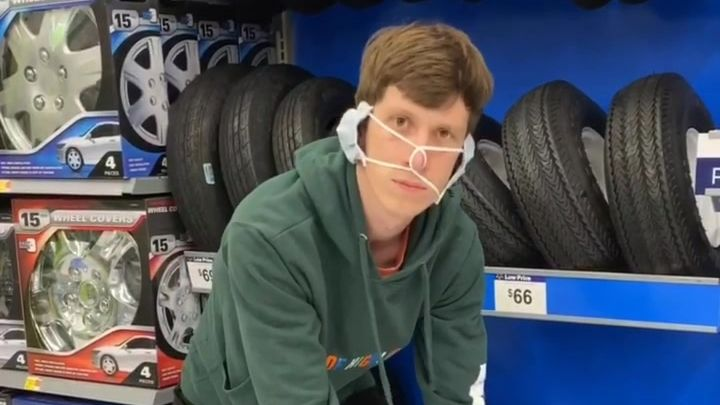with_incorrect_mask: (337, 77, 479, 214)
